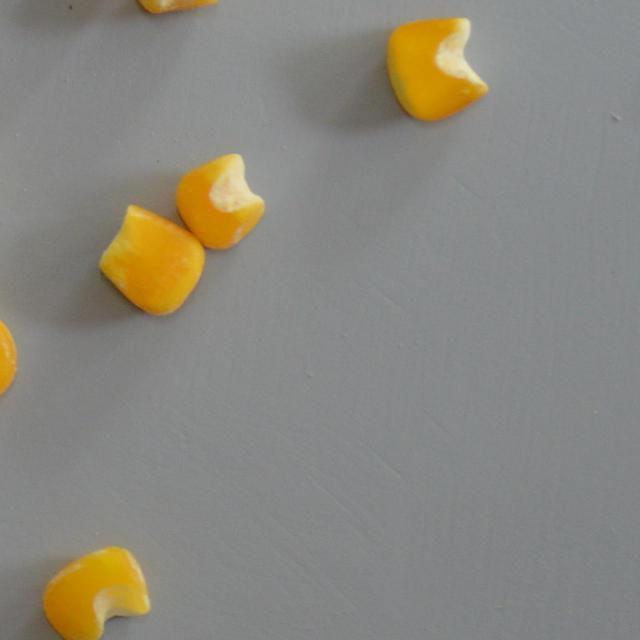no_canjicado: (98, 204, 204, 316), (386, 17, 487, 120), (42, 545, 150, 640), (176, 150, 266, 250), (0, 294, 18, 416), (134, 0, 224, 13)
